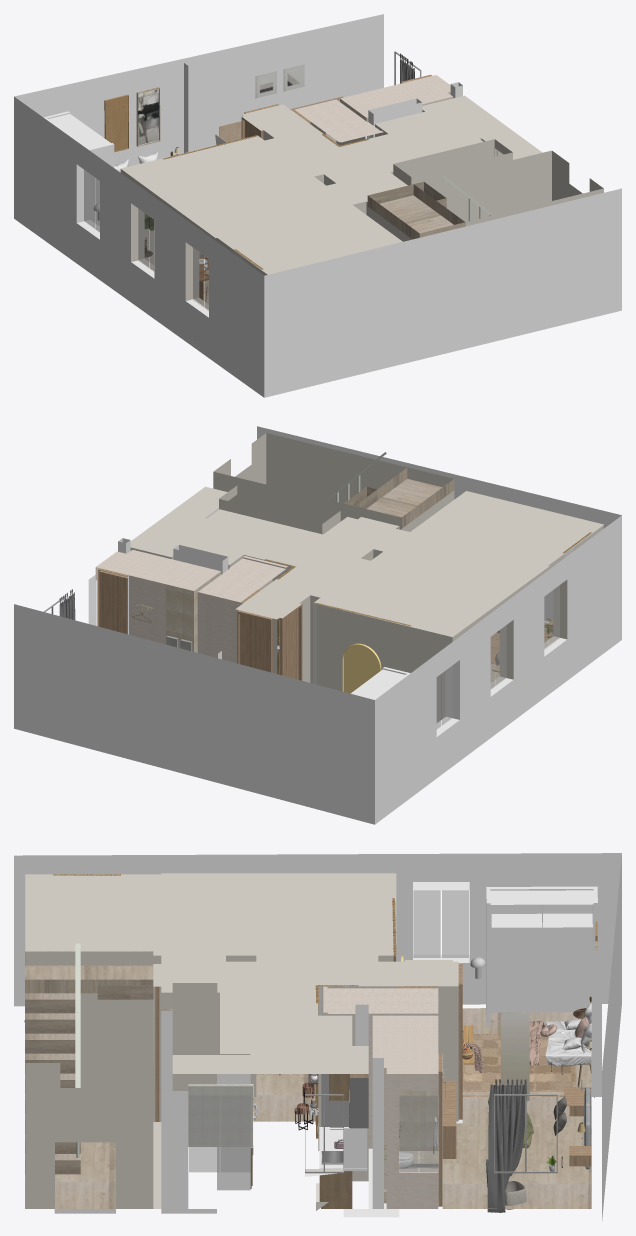
File: burgos-floor-1-hd-0.glb
The picture shows the model from 3 angles, top to bottom: view 1: azimuth 30°, elevation 25°; view 2: azimuth 150°, elevation 25°; view 3: azimuth 270°, elevation 25°; orthographic projection. The views are drawn at different scales.
Parts seen in each view (by area): view 1: structure, piece_121, piece_120, piece_50, piece_53, piece_51; view 2: structure, piece_7, piece_53, piece_50, piece_51; view 3: structure, piece_52, piece_0, piece_53, piece_7, piece_101, piece_49, piece_100, piece_18, piece_93, piece_140, piece_86 (+3 smaller).
Part boxes in pixels (x1,y1,x2,y2): structure: (14,14,621,397); piece_121: (136,87,160,146); piece_120: (104,94,128,152); piece_50: (138,209,154,270); piece_53: (84,170,99,232); piece_51: (193,248,208,309); structure: (14,426,621,824); piece_7: (166,571,220,652); piece_53: (436,665,452,728); piece_50: (490,625,506,688); piece_51: (544,585,559,648); structure: (14,853,621,1220); piece_52: (188,1084,252,1172); piece_0: (305,1074,368,1210); piece_53: (413,890,468,957); piece_7: (384,1090,442,1206); piece_101: (462,1034,575,1091); piece_49: (399,1095,437,1172); piece_100: (474,1003,591,1072); piece_18: (488,1013,529,1105); piece_93: (442,1080,456,1158); piece_140: (522,1087,591,1169); piece_86: (294,985,358,1138).
Size of the model in its own units: 9.27 by 3.76 by 10.92.
Materials: 247 (159 with a texture image).
